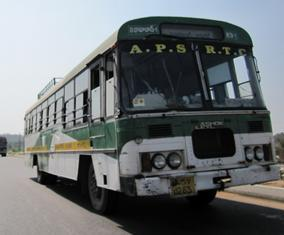Bus: (23, 16, 281, 215)
